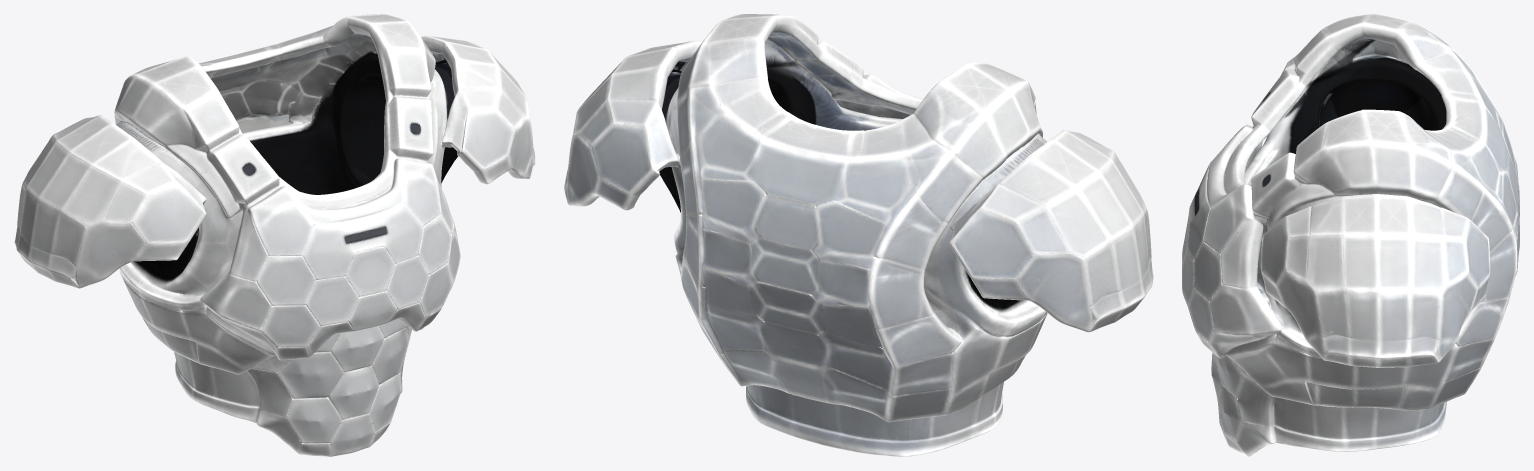
File: shield.glb
3 renders of one model, left to right at view 1: azimuth 30°, elevation 25°; view 2: azimuth 150°, elevation 25°; view 3: azimuth 270°, elevation 25°, orthographic. The views are drawn at different scales.
Size of the model in its own units: 1.9 by 1.31 by 1.08.
Materials: 1 (1 with a texture image).
